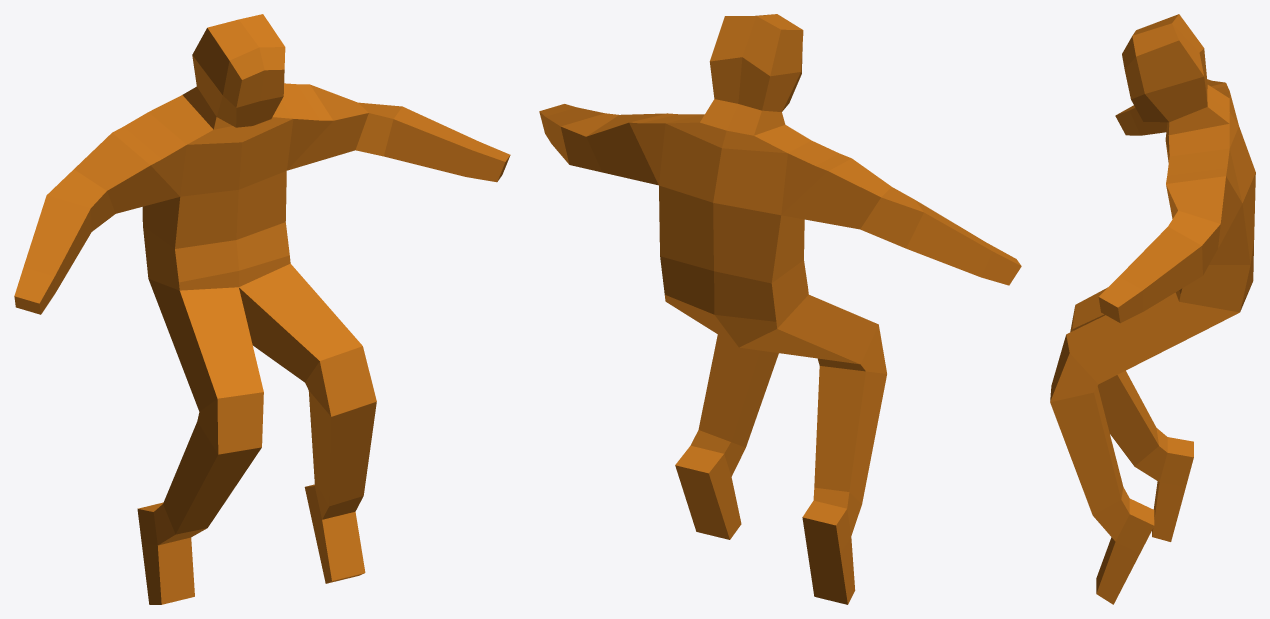
The model's file is expendable.fbx.
3 renders of one model, left to right at view 1: azimuth 30°, elevation 25°; view 2: azimuth 150°, elevation 25°; view 3: azimuth 270°, elevation 25°, orthographic. The views are drawn at different scales.
Visible parts, largest first — view 1: Cube.001; view 2: Cube.001; view 3: Cube.001.
Boxes of the visible parts, box(x1,y1,x2,y2) form: Cube.001: box(14, 14, 510, 604); Cube.001: box(539, 14, 1021, 604); Cube.001: box(1050, 14, 1255, 604).
Size of the model in its own units: 1.46 by 1.61 by 0.5503.
